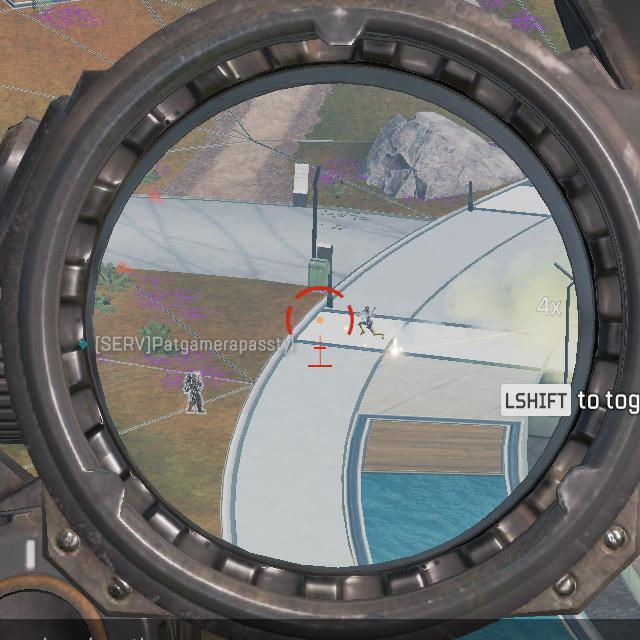avatar: (355, 302, 386, 343), (183, 368, 207, 414)
